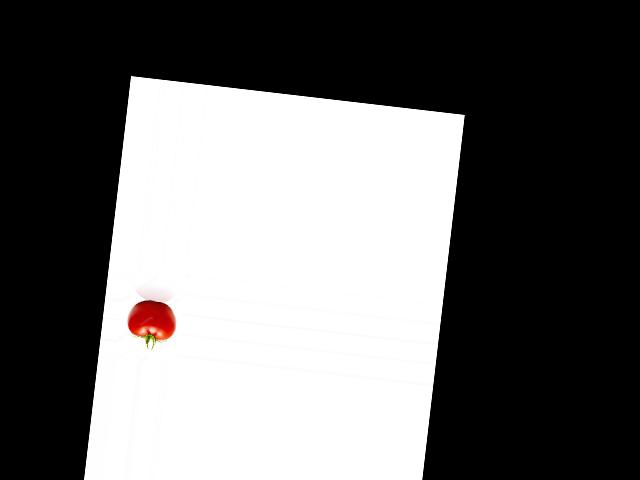tomato: (125, 298, 178, 342)
